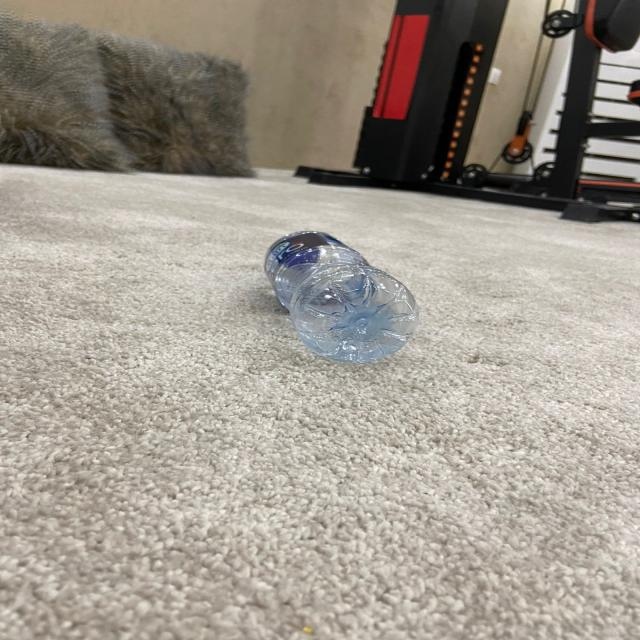plastic bottle: (261, 226, 424, 370)
